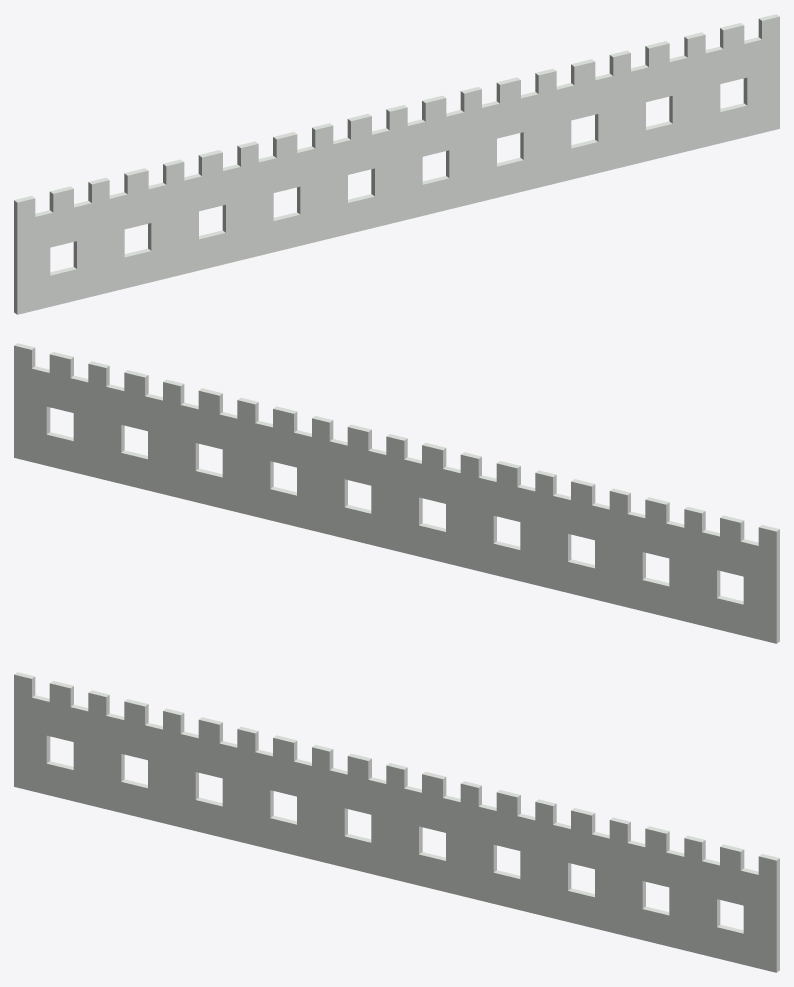
The model's file is WallPieceLONG.obj.
The picture shows the model from 3 angles, top to bottom: view 1: azimuth 30°, elevation 25°; view 2: azimuth 150°, elevation 25°; view 3: azimuth 330°, elevation 25°; orthographic projection.
Bounding box in the file's own units: 25.6 × 3.6 × 0.2.
Materials: 1 (1 with a texture image).
